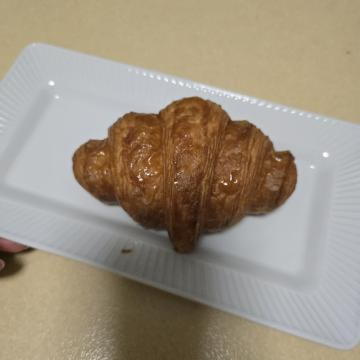croissant: (89, 55, 266, 307)
